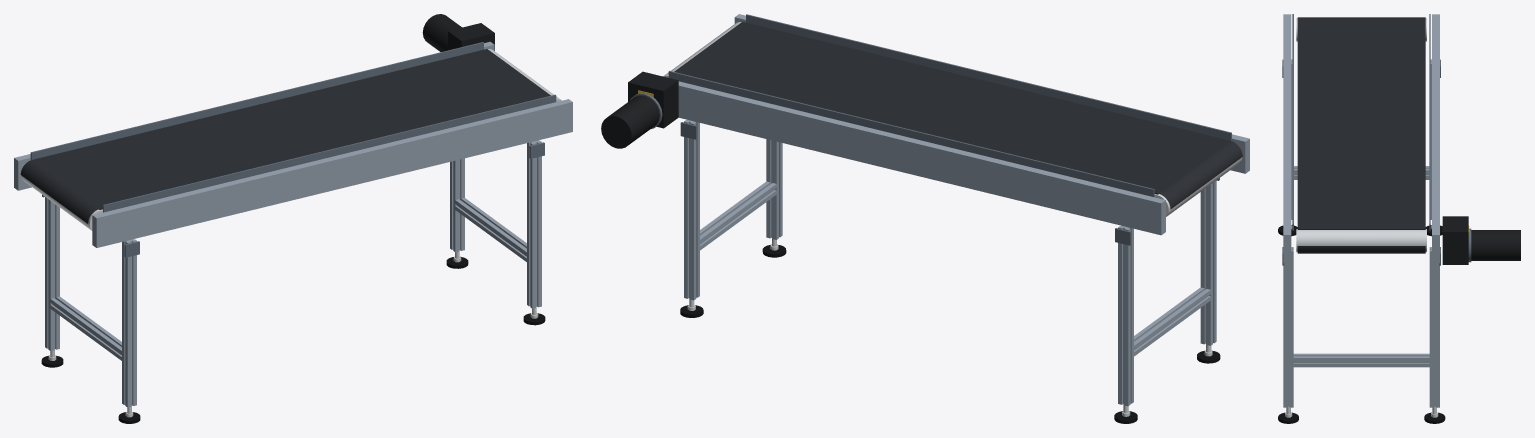
File: belt_conveyor_2m.glb
The picture shows the model from 3 angles, left to right: view 1: azimuth 30°, elevation 25°; view 2: azimuth 150°, elevation 25°; view 3: azimuth 270°, elevation 25°; orthographic projection. The views are drawn at different scales.
Parts seen in each view (by area): view 1: Belt_belt_pvc, Conveyor_Frame_alu_anodised, Conveyor_Frame_alu_dark, Drive_Motor_black_paint, Conveyor_Frame_steel_bright, Conveyor_Frame_rubber; view 2: Belt_belt_pvc, Conveyor_Frame_alu_anodised, Conveyor_Frame_alu_dark, Drive_Motor_black_paint, Conveyor_Frame_steel_bright, Conveyor_Frame_rubber; view 3: Belt_belt_pvc, Conveyor_Frame_alu_anodised, Drive_Motor_black_paint, Conveyor_Frame_steel_bright, Conveyor_Frame_alu_dark, Conveyor_Frame_rubber.
Part boxes in pixels (x1,y1,x2,y2): Belt_belt_pvc: [20, 49, 550, 223]; Conveyor_Frame_alu_anodised: [14, 41, 572, 407]; Conveyor_Frame_alu_dark: [30, 42, 556, 257]; Drive_Motor_black_paint: [422, 14, 494, 51]; Conveyor_Frame_steel_bright: [21, 49, 561, 417]; Conveyor_Frame_rubber: [41, 256, 545, 423]; Belt_belt_pvc: [674, 21, 1242, 209]; Conveyor_Frame_alu_anodised: [678, 14, 1249, 406]; Conveyor_Frame_alu_dark: [668, 14, 1231, 245]; Drive_Motor_black_paint: [601, 71, 678, 148]; Conveyor_Frame_steel_bright: [663, 22, 1242, 416]; Conveyor_Frame_rubber: [680, 244, 1220, 423]; Belt_belt_pvc: [1297, 17, 1425, 253]; Conveyor_Frame_alu_anodised: [1283, 14, 1439, 407]; Drive_Motor_black_paint: [1442, 216, 1520, 264]; Conveyor_Frame_steel_bright: [1285, 18, 1438, 417]; Conveyor_Frame_alu_dark: [1282, 14, 1440, 265]; Conveyor_Frame_rubber: [1278, 225, 1445, 423].
Bounding box in the file's own units: 2.03 × 0.875 × 0.93.
